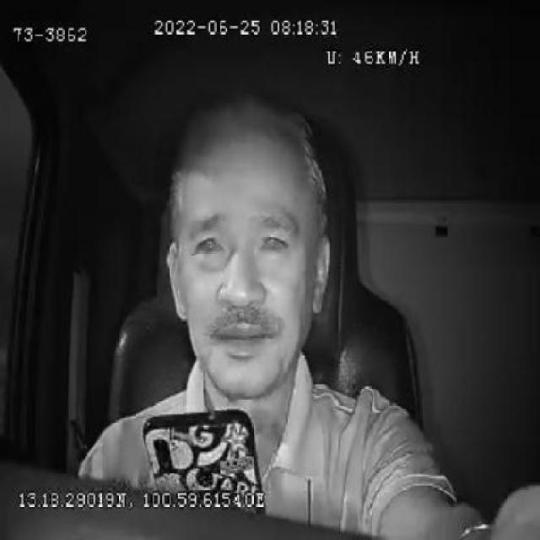phone: (142, 405, 265, 494)
